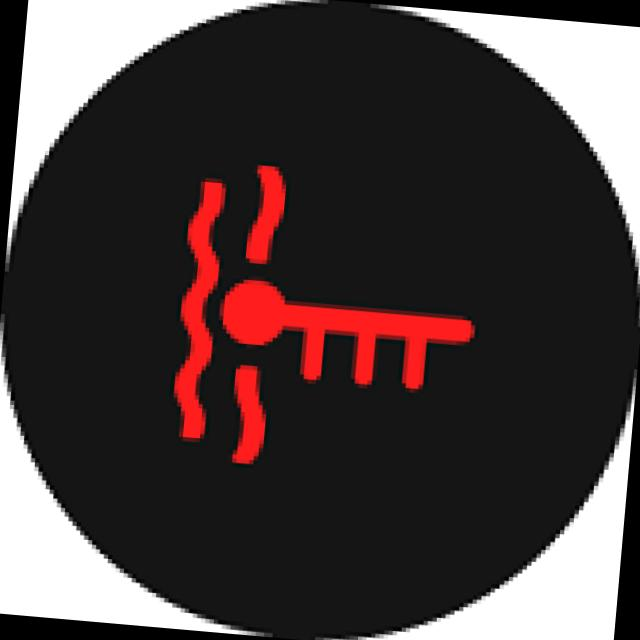kontrolka: (140, 130, 508, 516)
